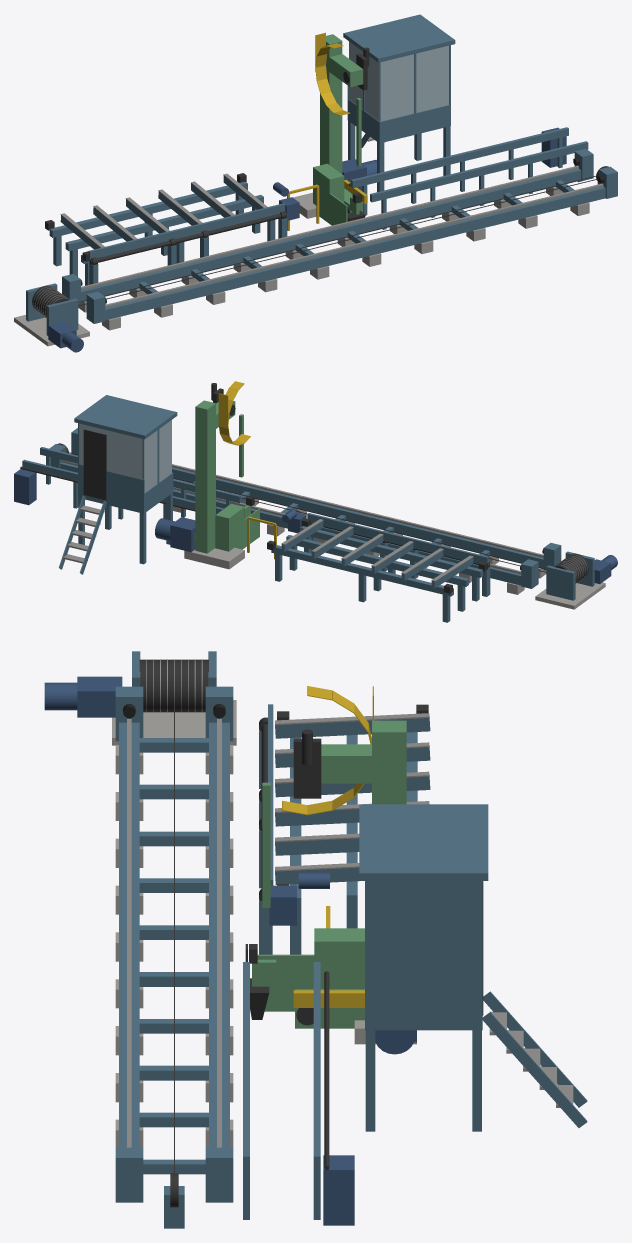
File: headrig_frame.glb
3 views of the same model, one above another, from view 1: azimuth 30°, elevation 25°; view 2: azimuth 150°, elevation 25°; view 3: azimuth 270°, elevation 25° (orthographic). The views are drawn at different scales.
Parts seen in each view (by area): view 1: HR_FrameMesh, HR_MillMesh; view 2: HR_FrameMesh, HR_MillMesh; view 3: HR_FrameMesh, HR_MillMesh.
Boxes of the visible parts, x1,y1,x2,y2 form: HR_FrameMesh: (14, 14, 617, 352); HR_MillMesh: (287, 32, 376, 230); HR_FrameMesh: (14, 395, 617, 622); HR_MillMesh: (155, 381, 276, 569); HR_FrameMesh: (44, 651, 587, 1228); HR_MillMesh: (245, 686, 416, 1054).
Bounding box in the file's own units: 17.9 × 5.24 × 7.84.
